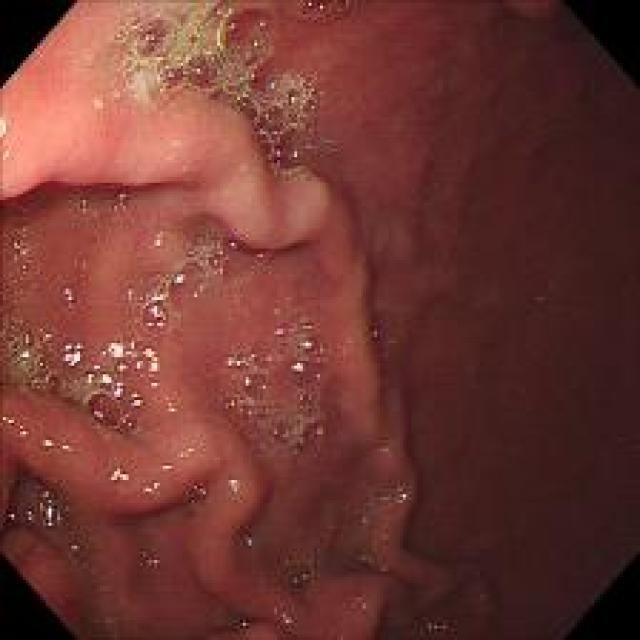bubbles: (79, 4, 348, 178), (6, 318, 159, 446), (216, 330, 325, 459), (12, 471, 110, 572), (139, 254, 232, 336), (1, 188, 36, 294), (66, 181, 140, 228), (132, 535, 171, 585), (180, 471, 219, 510), (235, 522, 272, 558), (284, 561, 315, 594), (225, 608, 266, 628)
contrast: (399, 24, 629, 635)
specularity: (65, 338, 160, 392), (274, 604, 302, 630), (140, 465, 162, 498), (391, 480, 415, 510), (150, 289, 169, 325), (108, 464, 132, 492), (158, 458, 181, 485), (41, 482, 55, 526), (161, 390, 181, 419), (224, 352, 249, 370), (118, 391, 141, 408), (215, 20, 225, 52), (62, 285, 76, 301), (228, 476, 240, 492), (288, 360, 302, 370), (41, 438, 54, 448), (111, 389, 126, 396), (302, 341, 312, 349)
